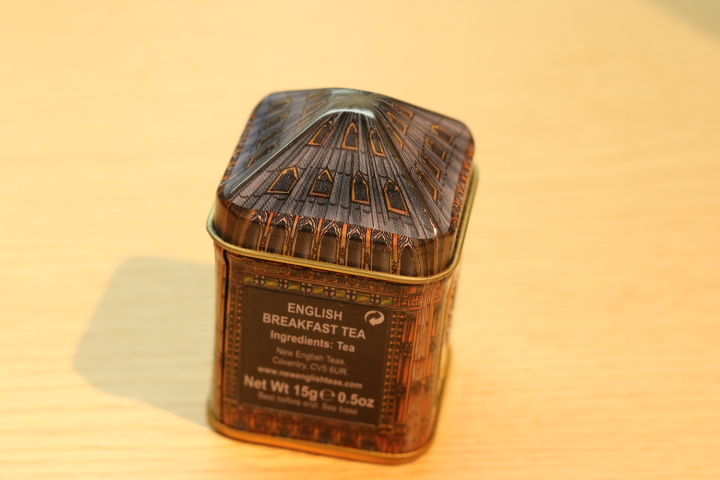Big Ben: (180, 70, 495, 471)
